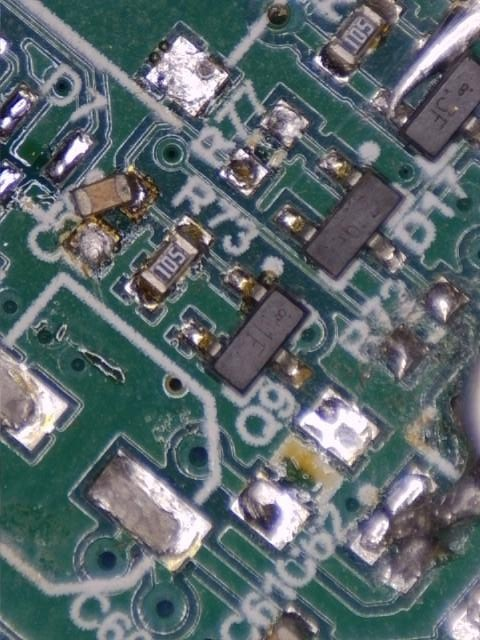pcb_defect: (359, 457, 480, 582), (372, 0, 480, 128), (62, 165, 161, 272)
